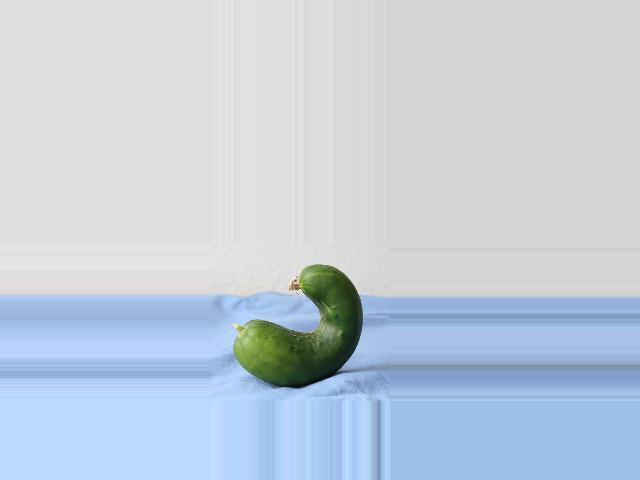cucumber: (232, 264, 362, 387)
